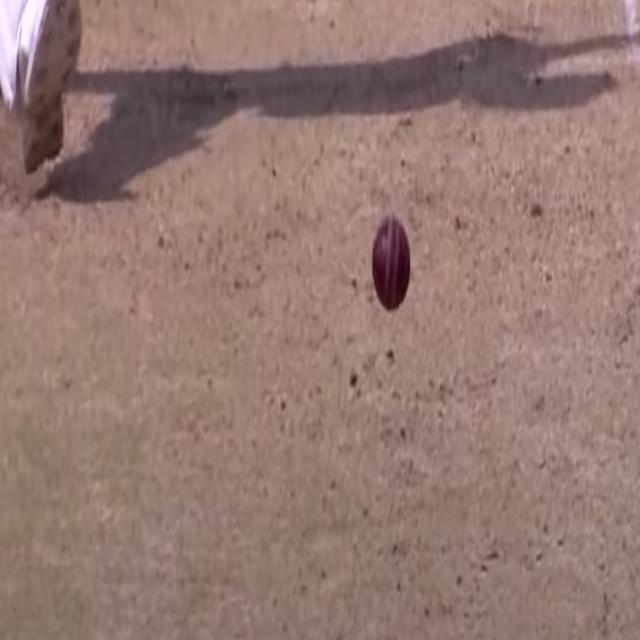ball: (366, 213, 414, 316)
